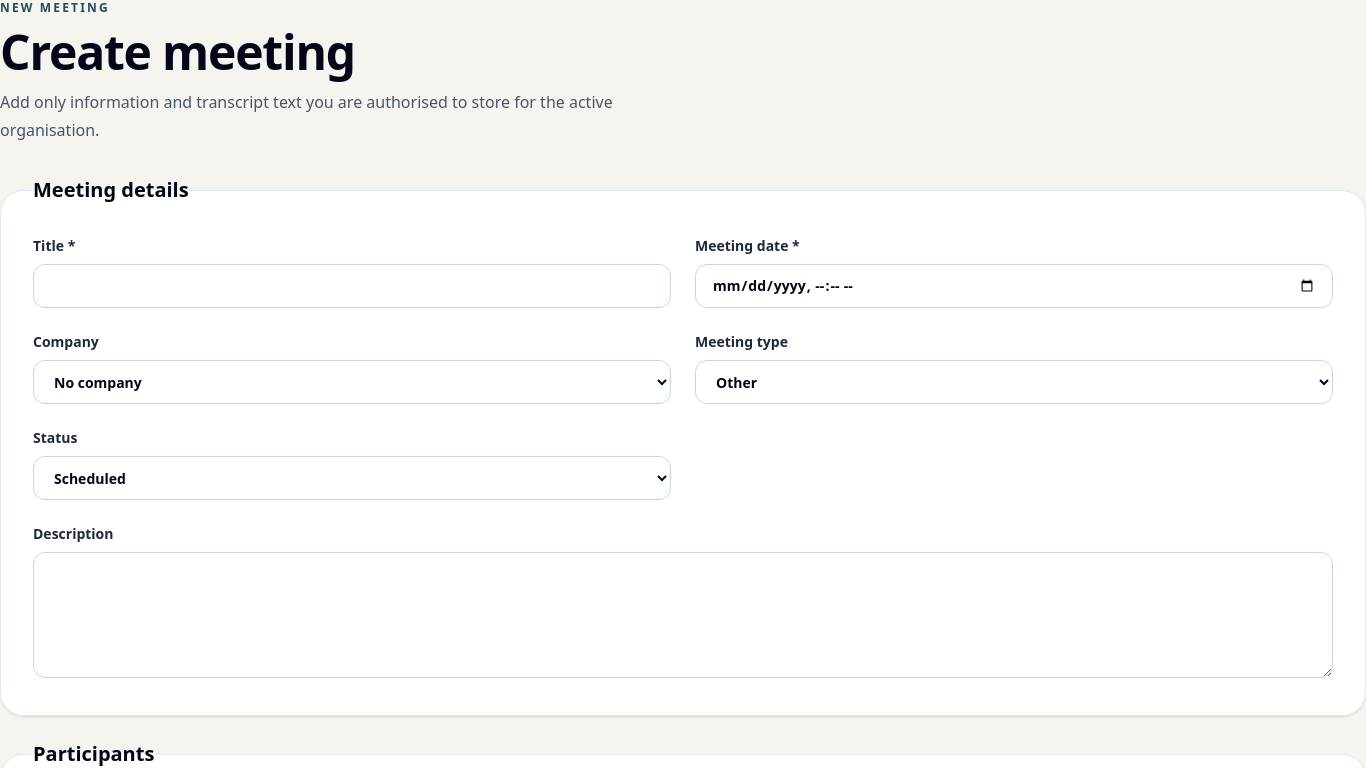
MeetingForm › shows participant validation without sending a mutation
Type "Discovery" into the field labelled "Title *".
click(352, 286); type("Discovery")  # box [33, 264, 671, 308]
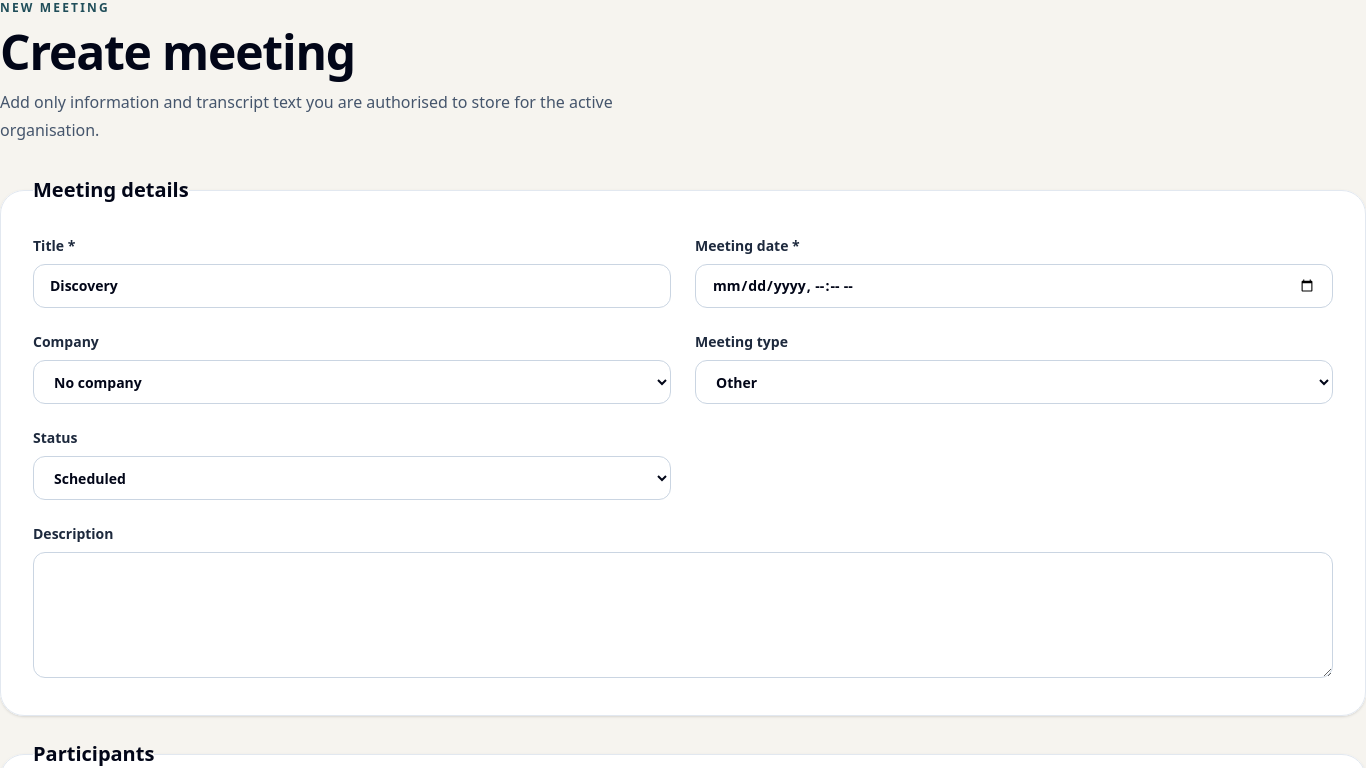
Type "2026-08-01T10:00" into the field labelled "Meeting date *".
click(1014, 286); type("2026-08-01T10:00")  # box [695, 264, 1333, 308]
(page scrolled)
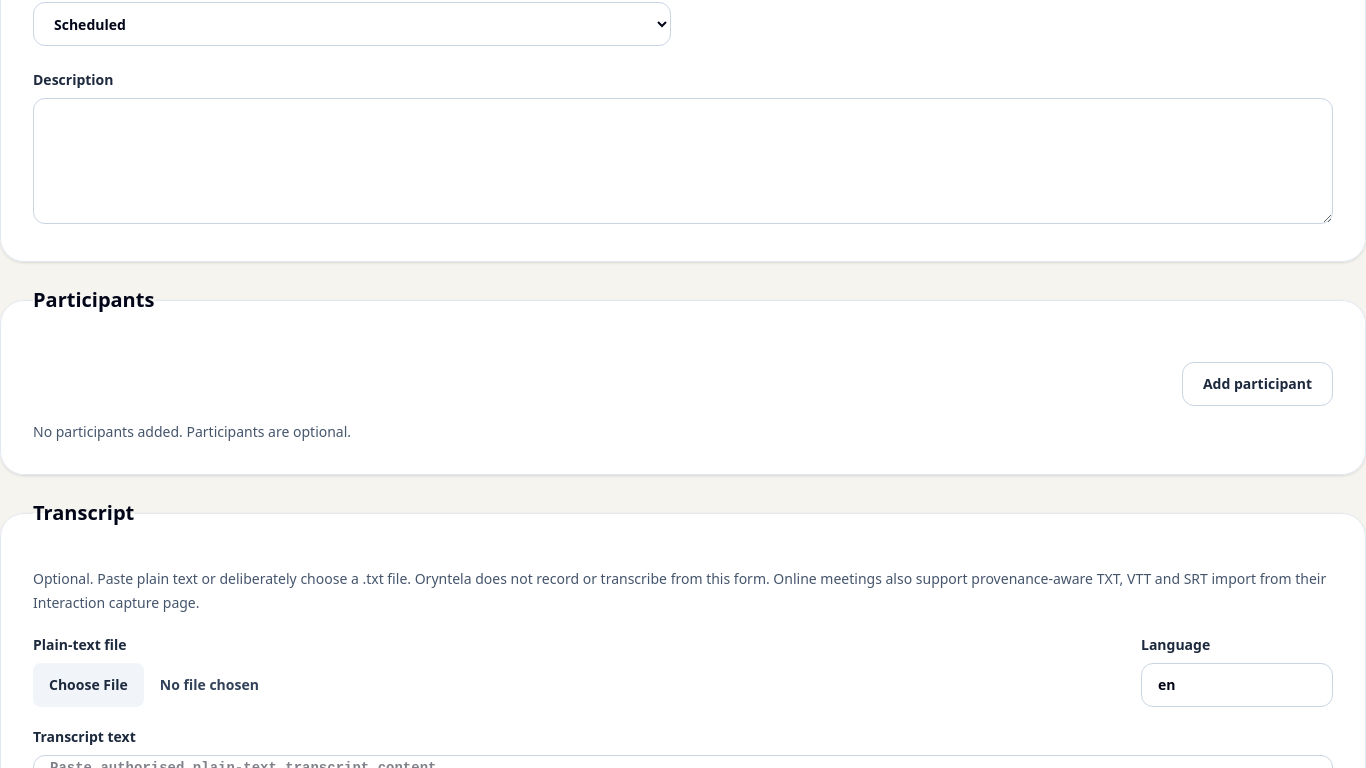
Click the button "Add participant".
click(1257, 384)  # box [1182, 362, 1333, 406]
(page scrolled)
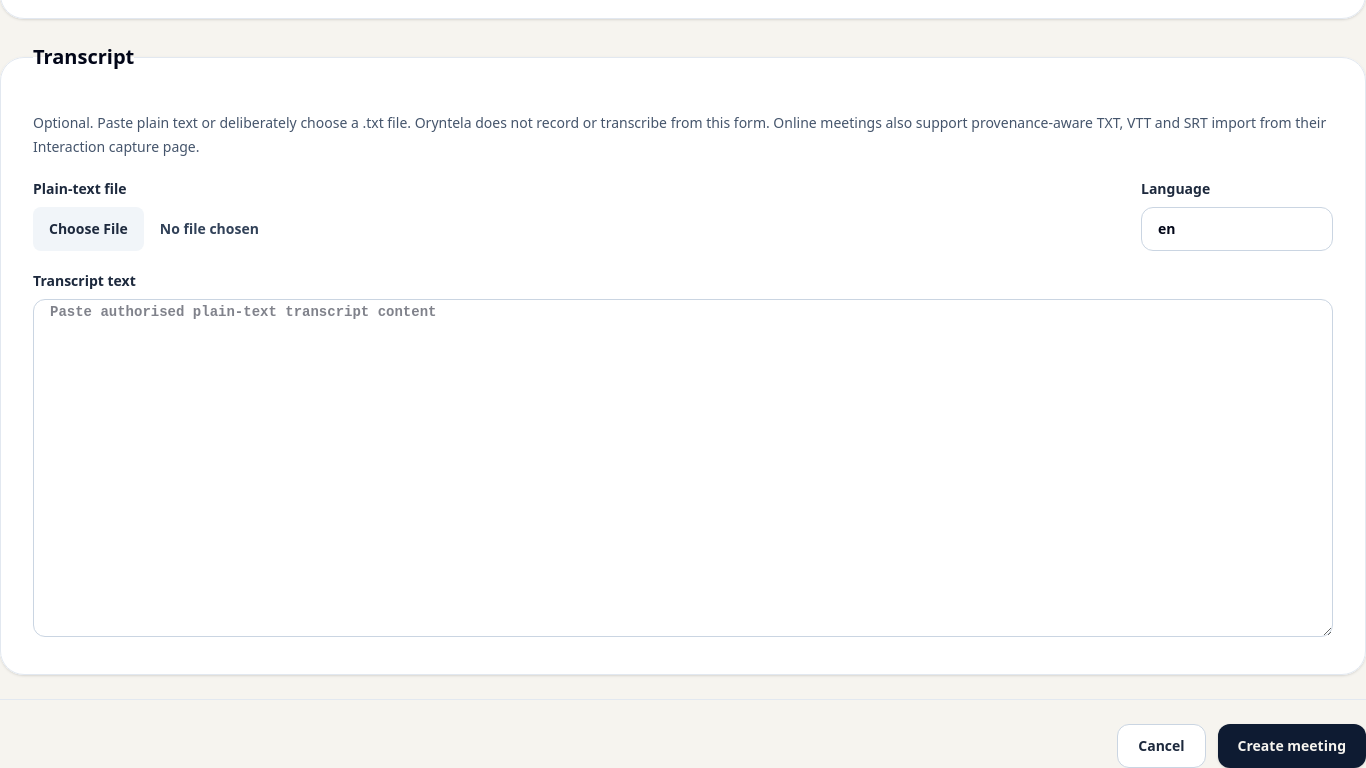
Click the button "Create meeting".
click(1292, 746)  # box [1218, 724, 1365, 767]
(page scrolled)
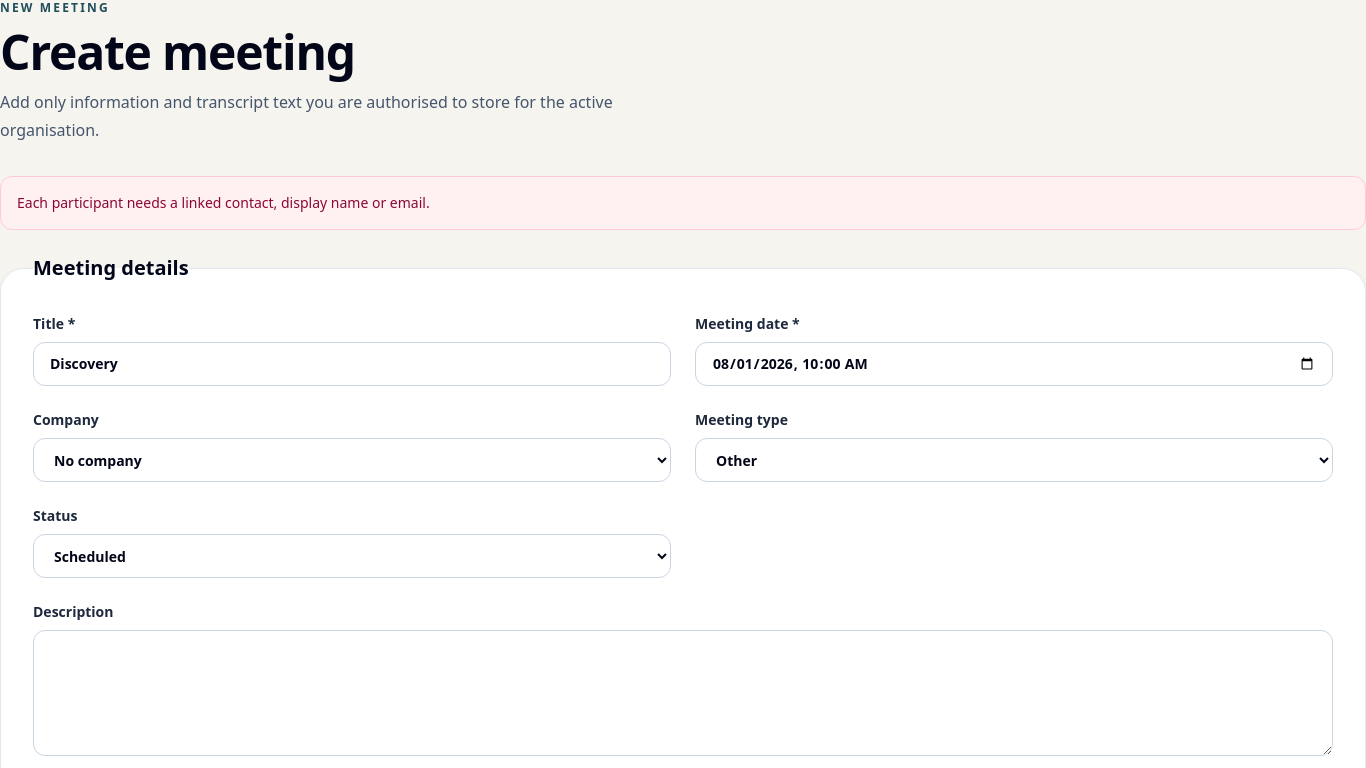
Expected: the message shows "Each participant needs", [17, 193, 430, 212]
